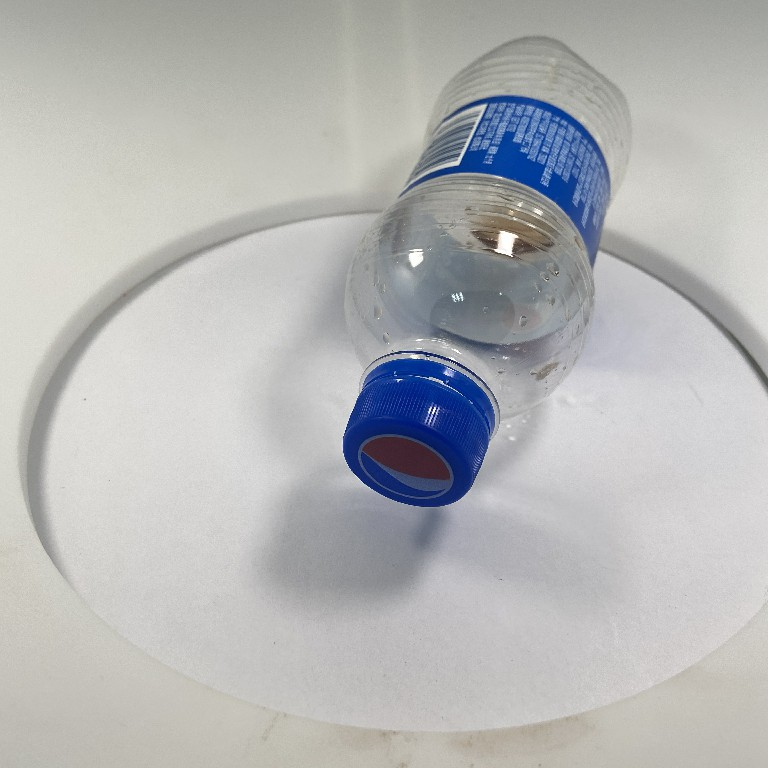bottle: (325, 26, 640, 513)
